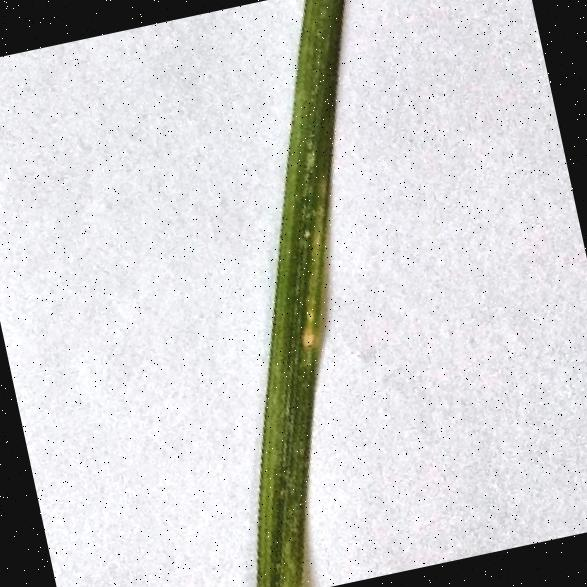Leaf_smut: (215, 108, 378, 378)
